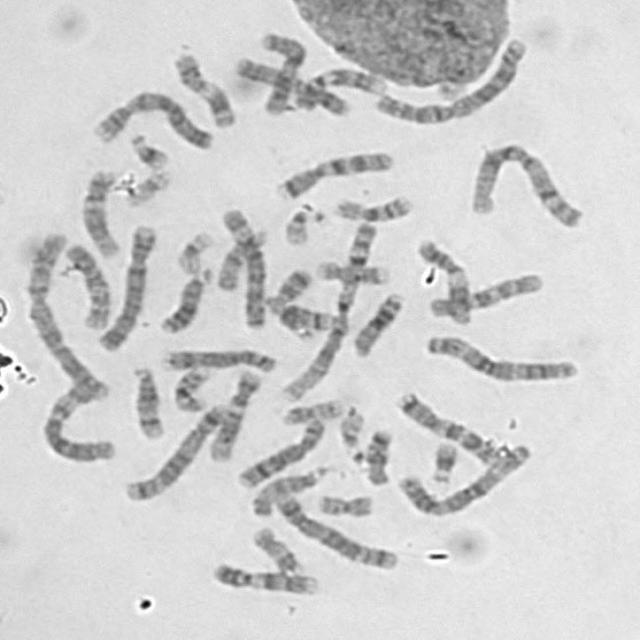A1: (273, 213, 382, 406), (462, 136, 587, 229)
A2: (18, 227, 112, 401), (365, 31, 530, 127)
A3: (388, 436, 534, 518), (417, 327, 581, 384)
B4: (90, 216, 158, 354), (83, 82, 217, 152)
B5: (117, 397, 229, 503), (264, 486, 400, 571)
C10: (420, 265, 546, 320), (58, 235, 112, 331)
C11: (166, 45, 240, 129), (410, 232, 476, 326)
C12: (201, 363, 263, 462), (74, 163, 124, 258)
C6: (34, 377, 120, 463), (214, 200, 270, 332)
C7: (389, 384, 504, 466), (269, 144, 396, 200)
C8: (230, 410, 328, 490), (155, 341, 280, 374)
C9: (284, 60, 388, 111), (203, 555, 323, 597)
D13: (152, 260, 214, 335), (344, 284, 406, 358)
D14: (123, 358, 167, 441), (263, 294, 339, 333)
D15: (244, 458, 332, 520), (210, 221, 271, 292)
E16: (326, 188, 416, 224), (165, 360, 214, 413)
E17: (244, 520, 306, 576), (308, 252, 392, 286)
E18: (258, 260, 314, 314), (358, 422, 396, 488)
F19: (118, 162, 172, 208), (169, 224, 215, 275)
F20: (274, 392, 346, 426), (309, 486, 376, 518)
G21: (123, 126, 171, 170), (423, 434, 461, 486)
G22: (276, 200, 328, 247), (331, 400, 366, 450)
X: (228, 49, 352, 118), (252, 26, 310, 116)
